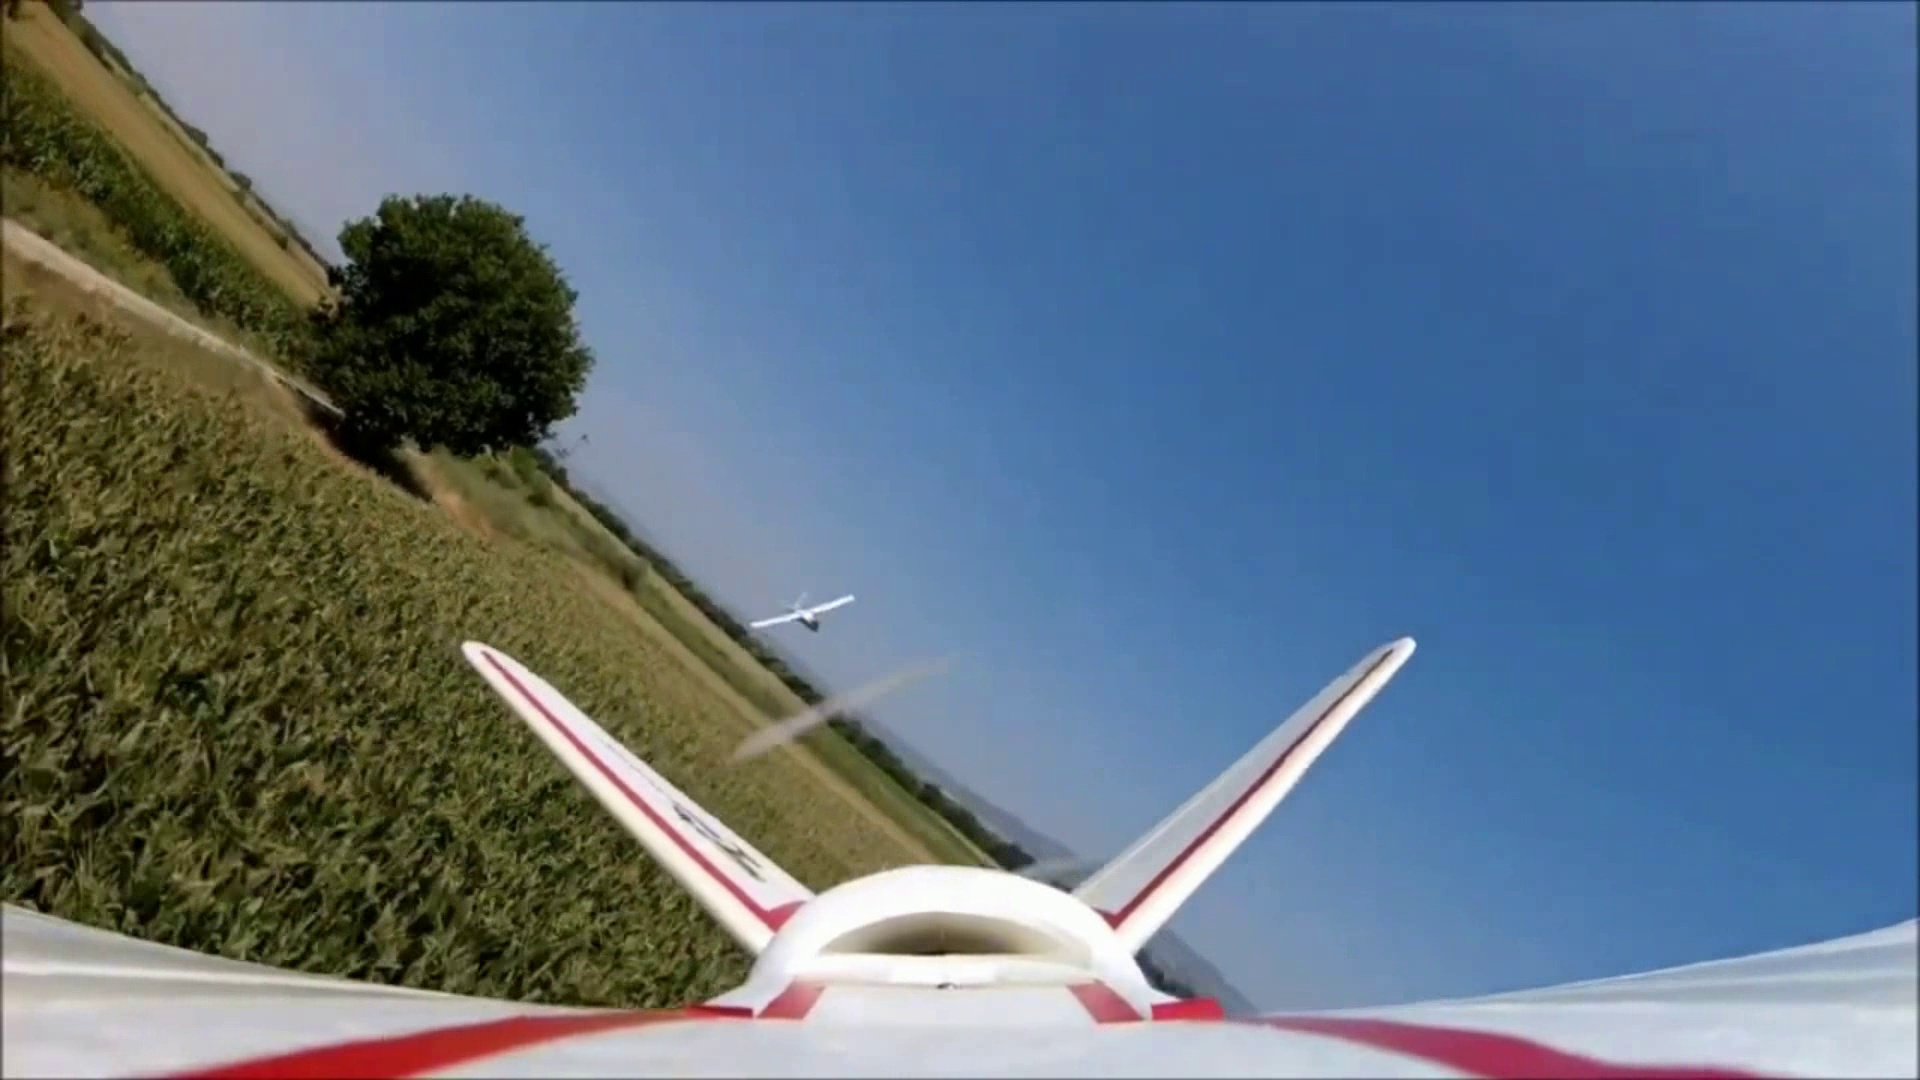airplane: (30, 574, 1888, 1059)
